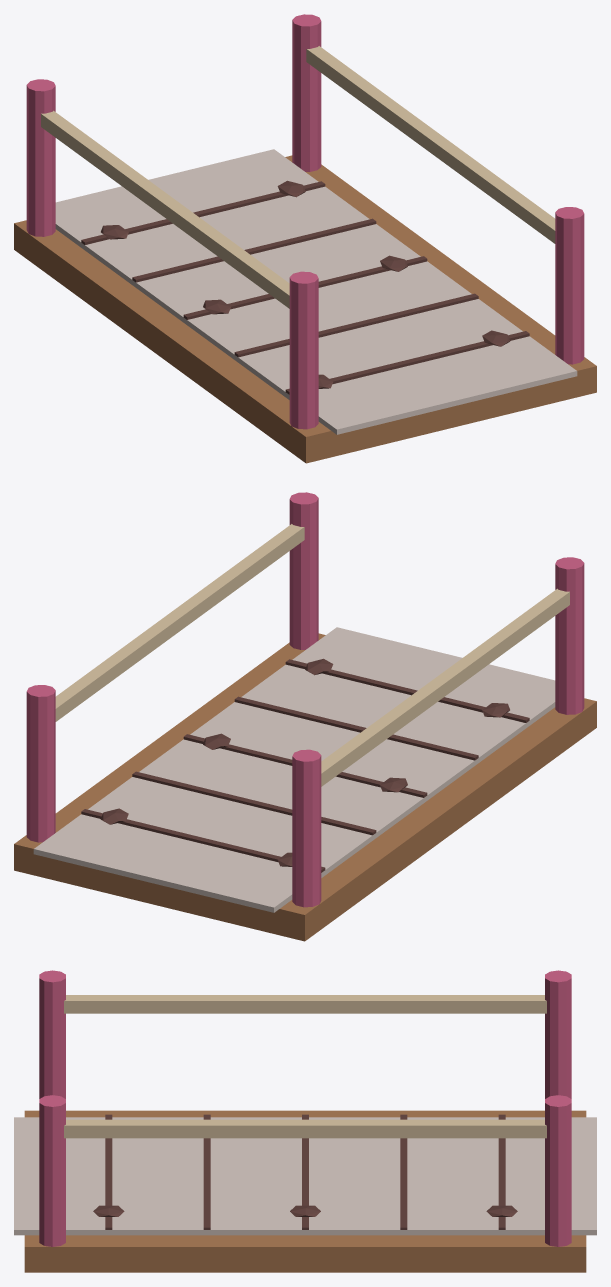
The model's file is Candyland_CookieBridge_Showcase.glb.
The picture shows the model from 3 angles, top to bottom: view 1: azimuth 30°, elevation 25°; view 2: azimuth 150°, elevation 25°; view 3: azimuth 270°, elevation 25°; orthographic projection. The views are drawn at different scales.
Parts seen in each view (by area): view 1: Candyland_CookieBridge_Showcase; view 2: Candyland_CookieBridge_Showcase; view 3: Candyland_CookieBridge_Showcase.
Part boxes in pixels (box(x1,y1,x2,y2)): Candyland_CookieBridge_Showcase: box(14, 14, 596, 463); Candyland_CookieBridge_Showcase: box(14, 492, 596, 941); Candyland_CookieBridge_Showcase: box(14, 970, 596, 1272).
Bounding box in the file's own units: 2.3 × 1.3 × 4.15.
